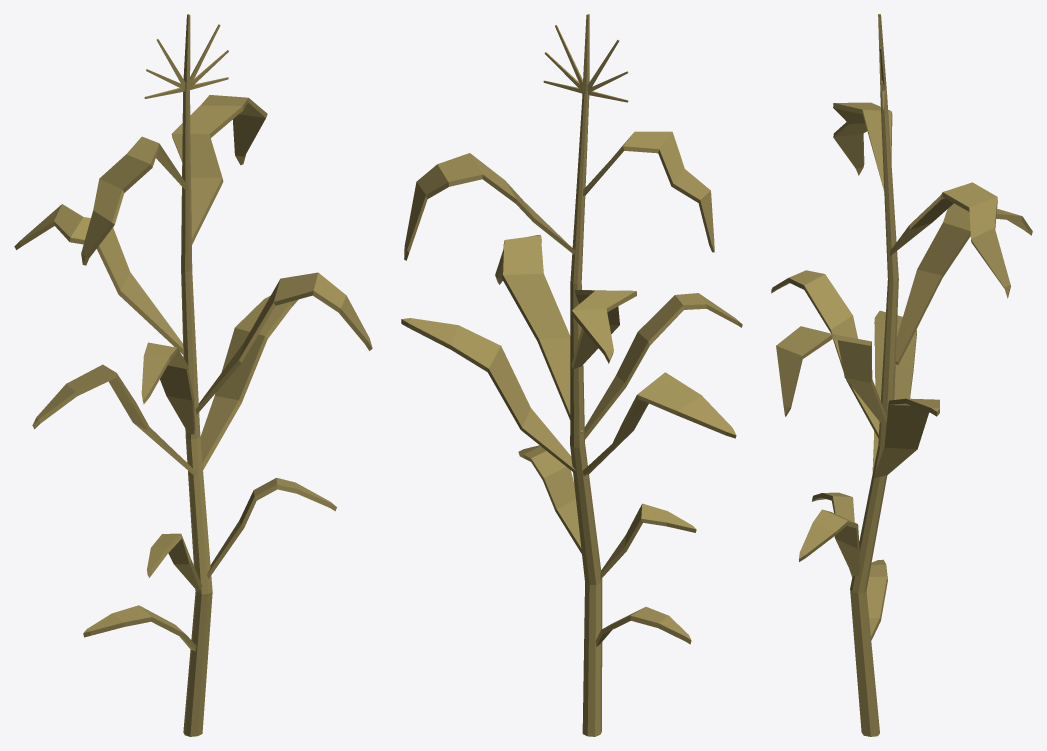
The model's file is Corn_Harvested.glb.
3 views of the same model, side by side, from view 1: azimuth 30°, elevation 25°; view 2: azimuth 150°, elevation 25°; view 3: azimuth 270°, elevation 25° (orthographic).
Parts seen in each view (by area): view 1: Corn_Harvested_Cube.033; view 2: Corn_Harvested_Cube.033; view 3: Corn_Harvested_Cube.033.
Part boxes in pixels (x1=…): Corn_Harvested_Cube.033: x1=14, y1=14, x2=372, y2=736; Corn_Harvested_Cube.033: x1=401, y1=14, x2=742, y2=736; Corn_Harvested_Cube.033: x1=771, y1=14, x2=1032, y2=736.
Size of the model in its own units: 0.8873 by 1.97 by 0.649.
